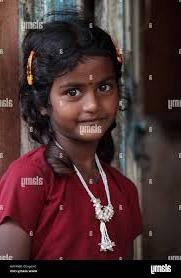Human: (1, 15, 152, 256)
